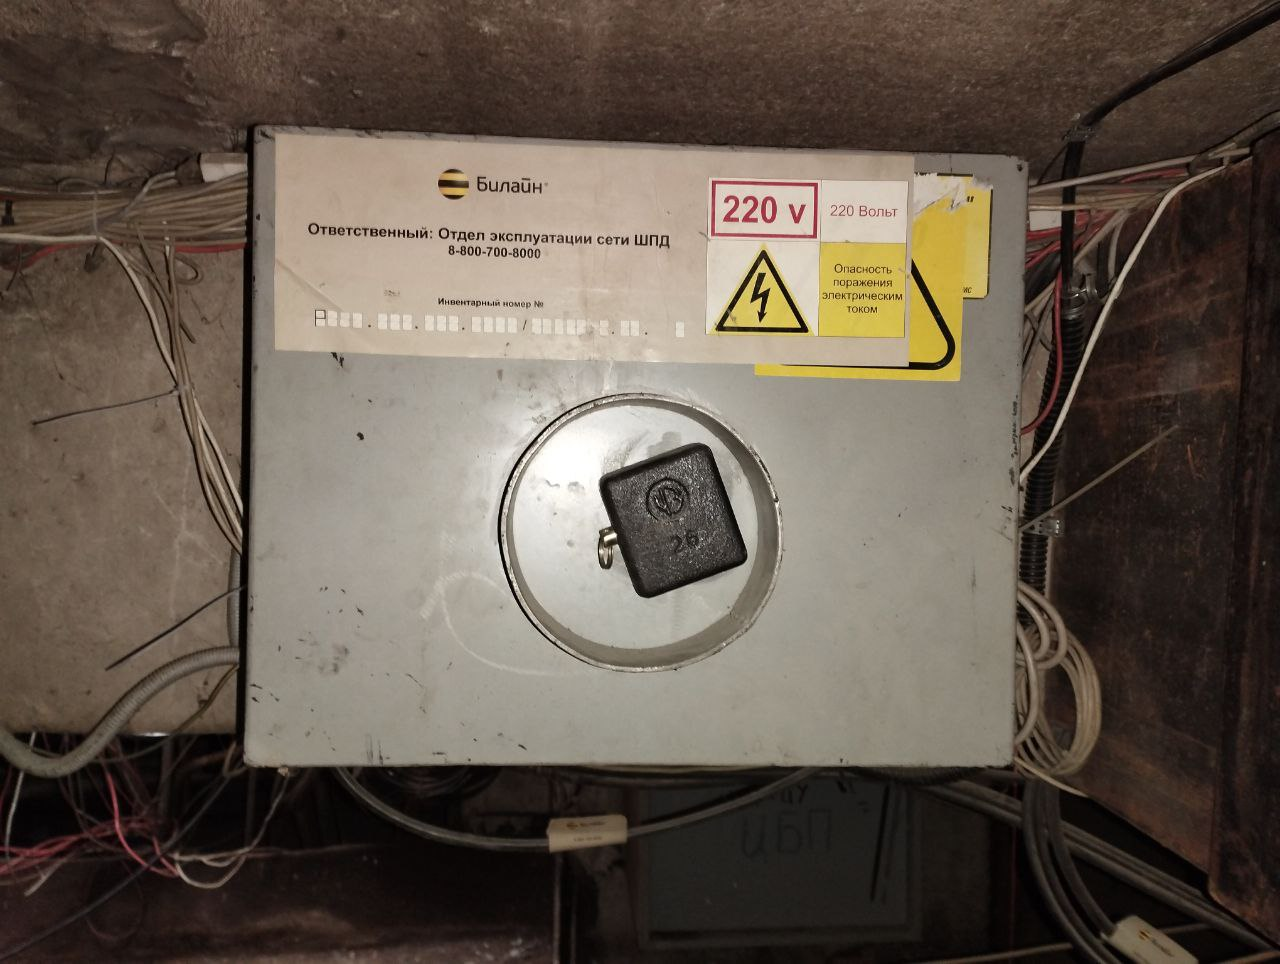shta-3: (235, 118, 1034, 773)
